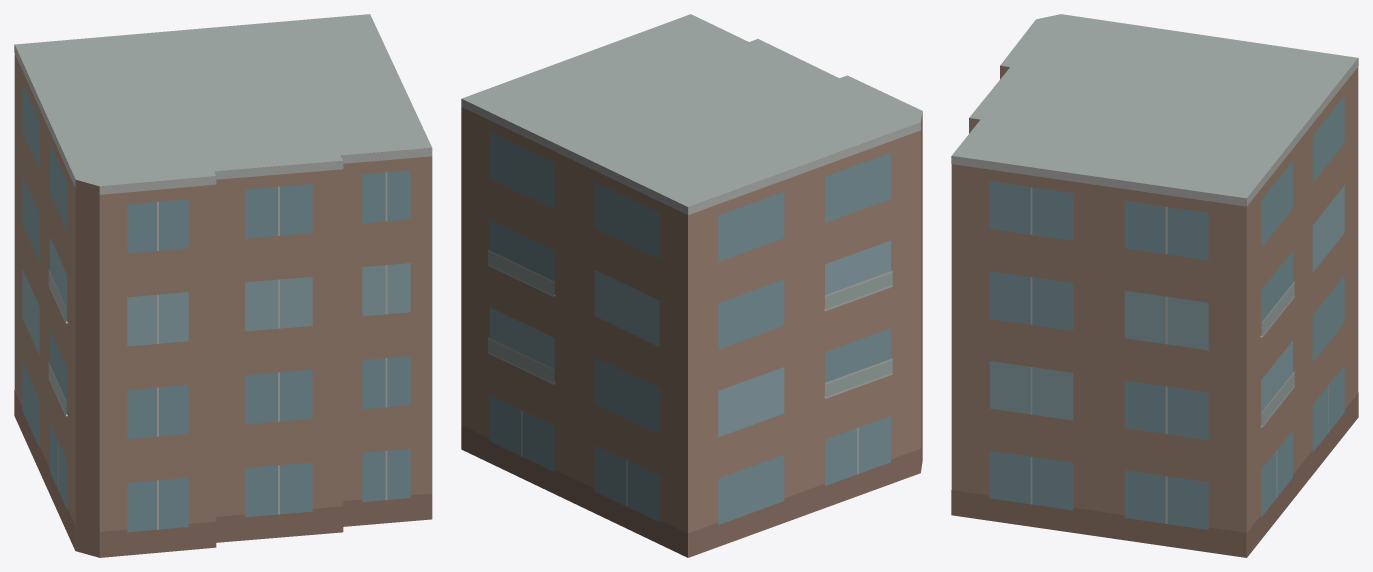
File: survey-upis-32526659.glb
3 views of the same model, side by side, from view 1: azimuth 30°, elevation 25°; view 2: azimuth 150°, elevation 25°; view 3: azimuth 270°, elevation 25° (orthographic). The views are drawn at different scales.
Parts seen in each view (by area): view 1: survey-upis-32526659.tmp; view 2: survey-upis-32526659.tmp; view 3: survey-upis-32526659.tmp.
Boxes of the visible parts, x1=… form: survey-upis-32526659.tmp: x1=14, y1=14, x2=432, y2=557; survey-upis-32526659.tmp: x1=461, y1=14, x2=922, y2=557; survey-upis-32526659.tmp: x1=951, y1=14, x2=1358, y2=557.
Bounding box in the file's own units: 11.67 × 10.6 × 10.89.
